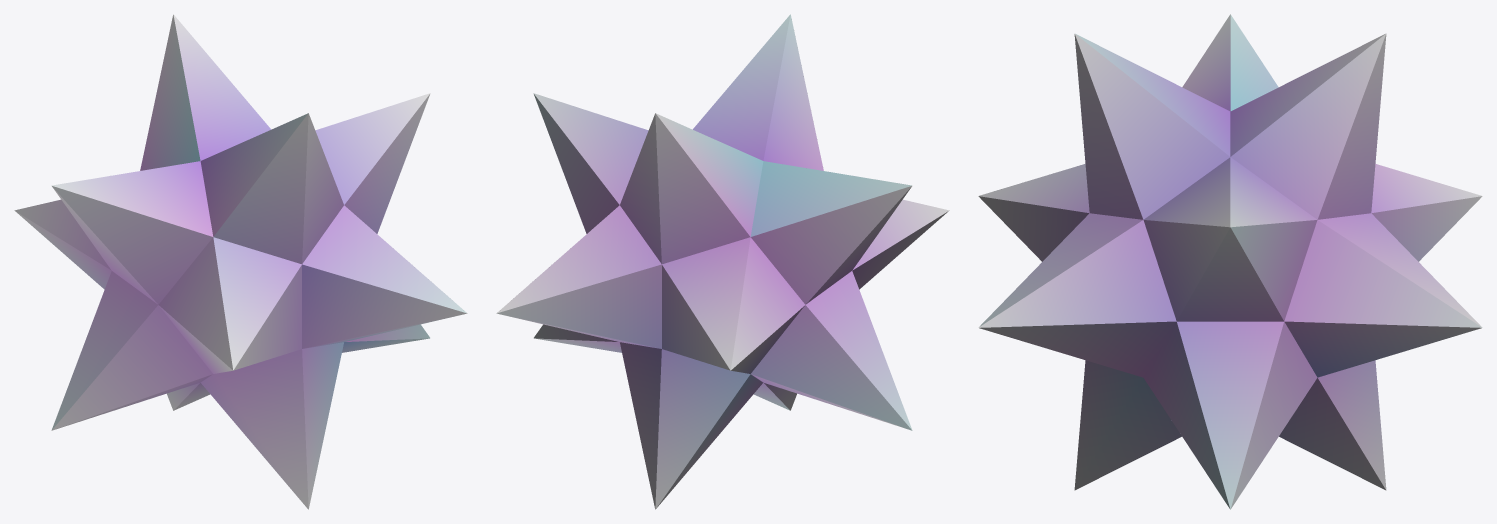
3 views of the same model, side by side, from view 1: azimuth 30°, elevation 25°; view 2: azimuth 150°, elevation 25°; view 3: azimuth 270°, elevation 25° (orthographic). The views are drawn at different scales.
Parts seen in each view (by area): view 1: core; view 2: core; view 3: core.
Part boxes in pixels (x1,y1,x2,y2): core: [14, 14, 467, 509]; core: [496, 14, 949, 509]; core: [978, 14, 1482, 509].
Bounding box in the file's own units: 0.2 × 0.2 × 0.2.
